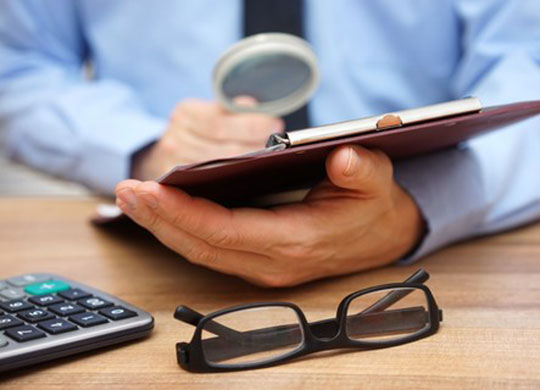Calculator: (2, 271, 154, 382)
